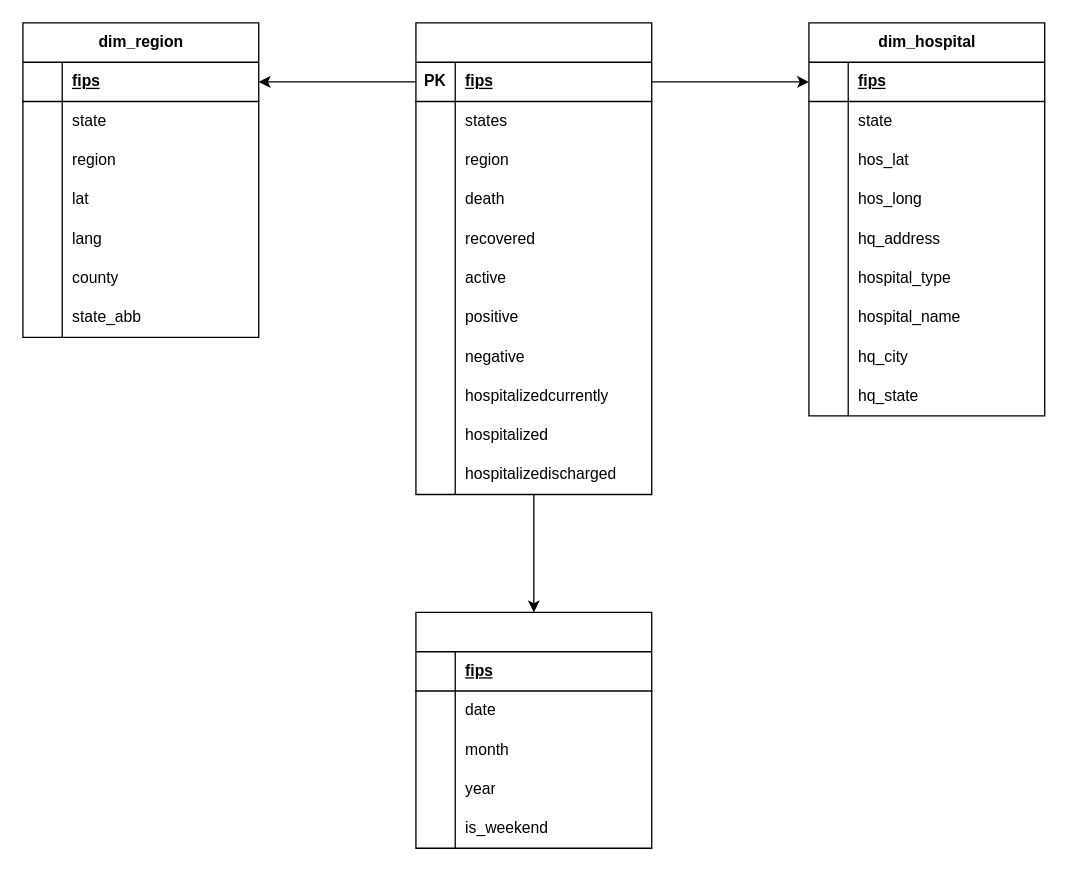
This 1068x871 diagram has some shape labels left out. The box of each missing label's shape, as (x1, y1, x2, y2) in pixels:
dim_date: (415, 611, 652, 848)
fact_covid: (415, 22, 652, 495)
